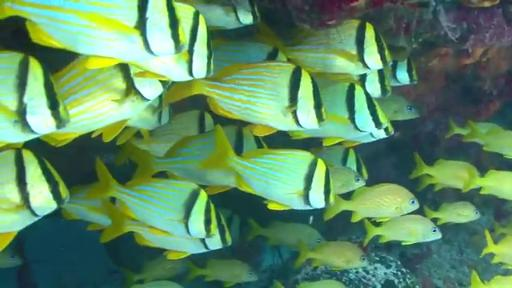Fish: (0, 0, 185, 66), (165, 61, 326, 135), (203, 126, 334, 210), (41, 57, 163, 145), (88, 159, 219, 238), (100, 203, 231, 259), (0, 149, 68, 251), (124, 131, 235, 193), (289, 78, 389, 145), (0, 51, 69, 145), (130, 3, 213, 81), (280, 20, 391, 75), (129, 111, 214, 156), (324, 184, 419, 222), (212, 39, 287, 76), (312, 145, 367, 194), (116, 96, 172, 144), (409, 153, 479, 191), (177, 0, 259, 29), (364, 215, 441, 245), (314, 68, 391, 98), (61, 184, 111, 230), (248, 220, 324, 248), (295, 241, 367, 269), (188, 260, 258, 287), (121, 256, 186, 285), (312, 145, 367, 179), (463, 122, 511, 158), (323, 123, 394, 147), (424, 201, 480, 224), (470, 170, 511, 199), (376, 94, 419, 121), (218, 208, 248, 245), (328, 165, 365, 194), (481, 230, 511, 265), (358, 69, 391, 98), (387, 57, 418, 86), (471, 271, 511, 287), (0, 245, 23, 268), (445, 118, 471, 138), (130, 280, 183, 287), (297, 280, 346, 287), (494, 222, 511, 236)
